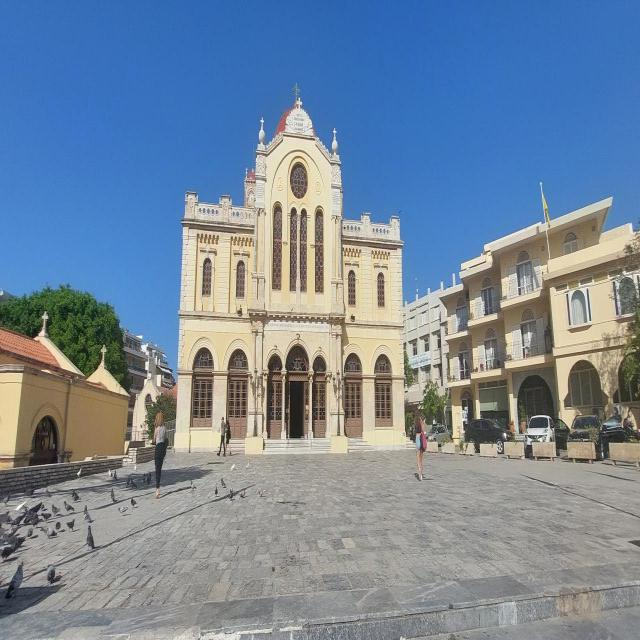Agios Minas: (174, 79, 408, 453)
